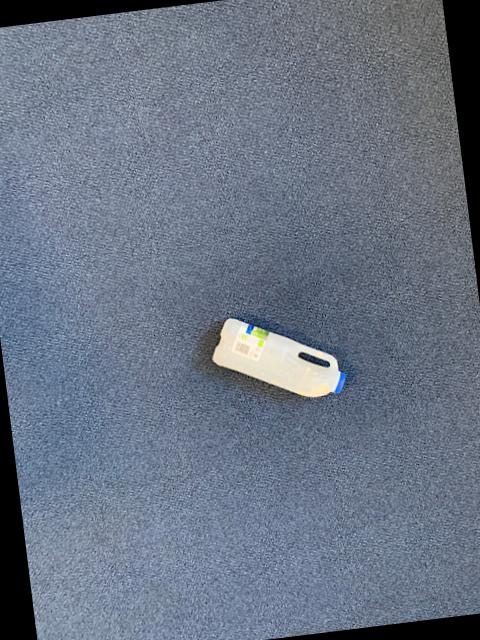plastic: (215, 320, 347, 398)
